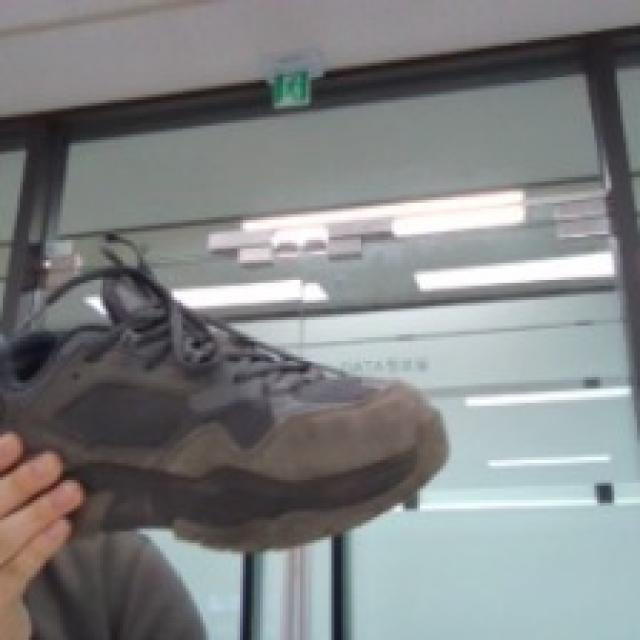shoe: (0, 224, 454, 554)
